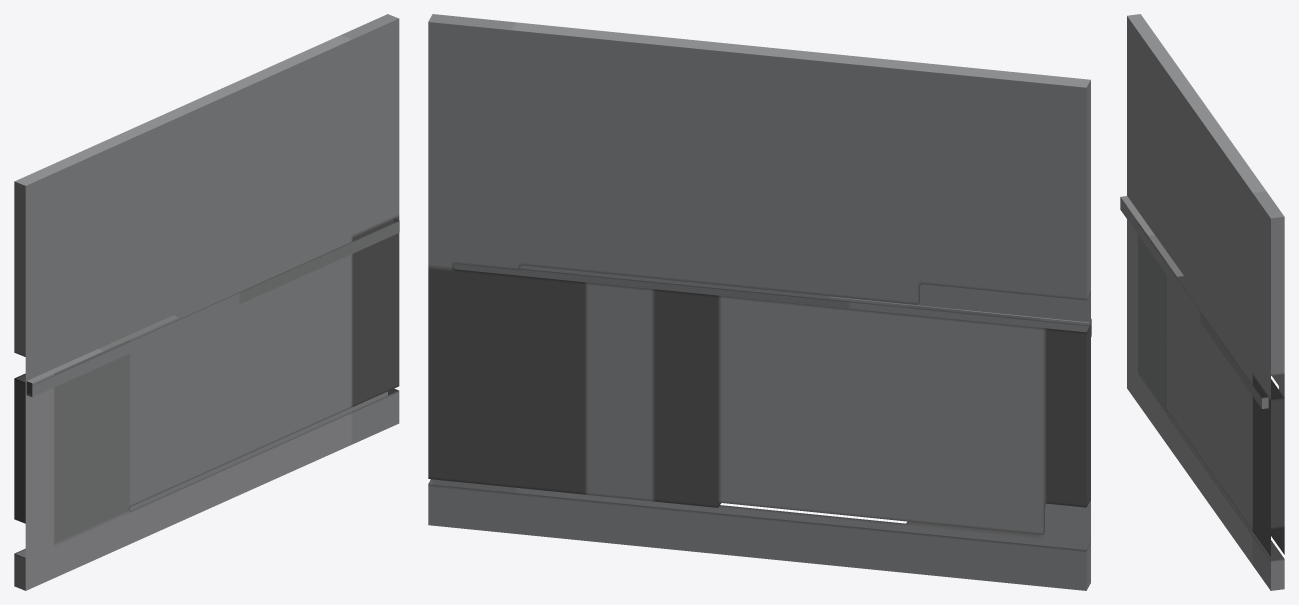
3 views of the same model, side by side, from view 1: azimuth 30°, elevation 25°; view 2: azimuth 150°, elevation 25°; view 3: azimuth 270°, elevation 25° (orthographic). The views are drawn at different scales.
Size of the model in its own units: 1.18 by 1 by 0.4009.
